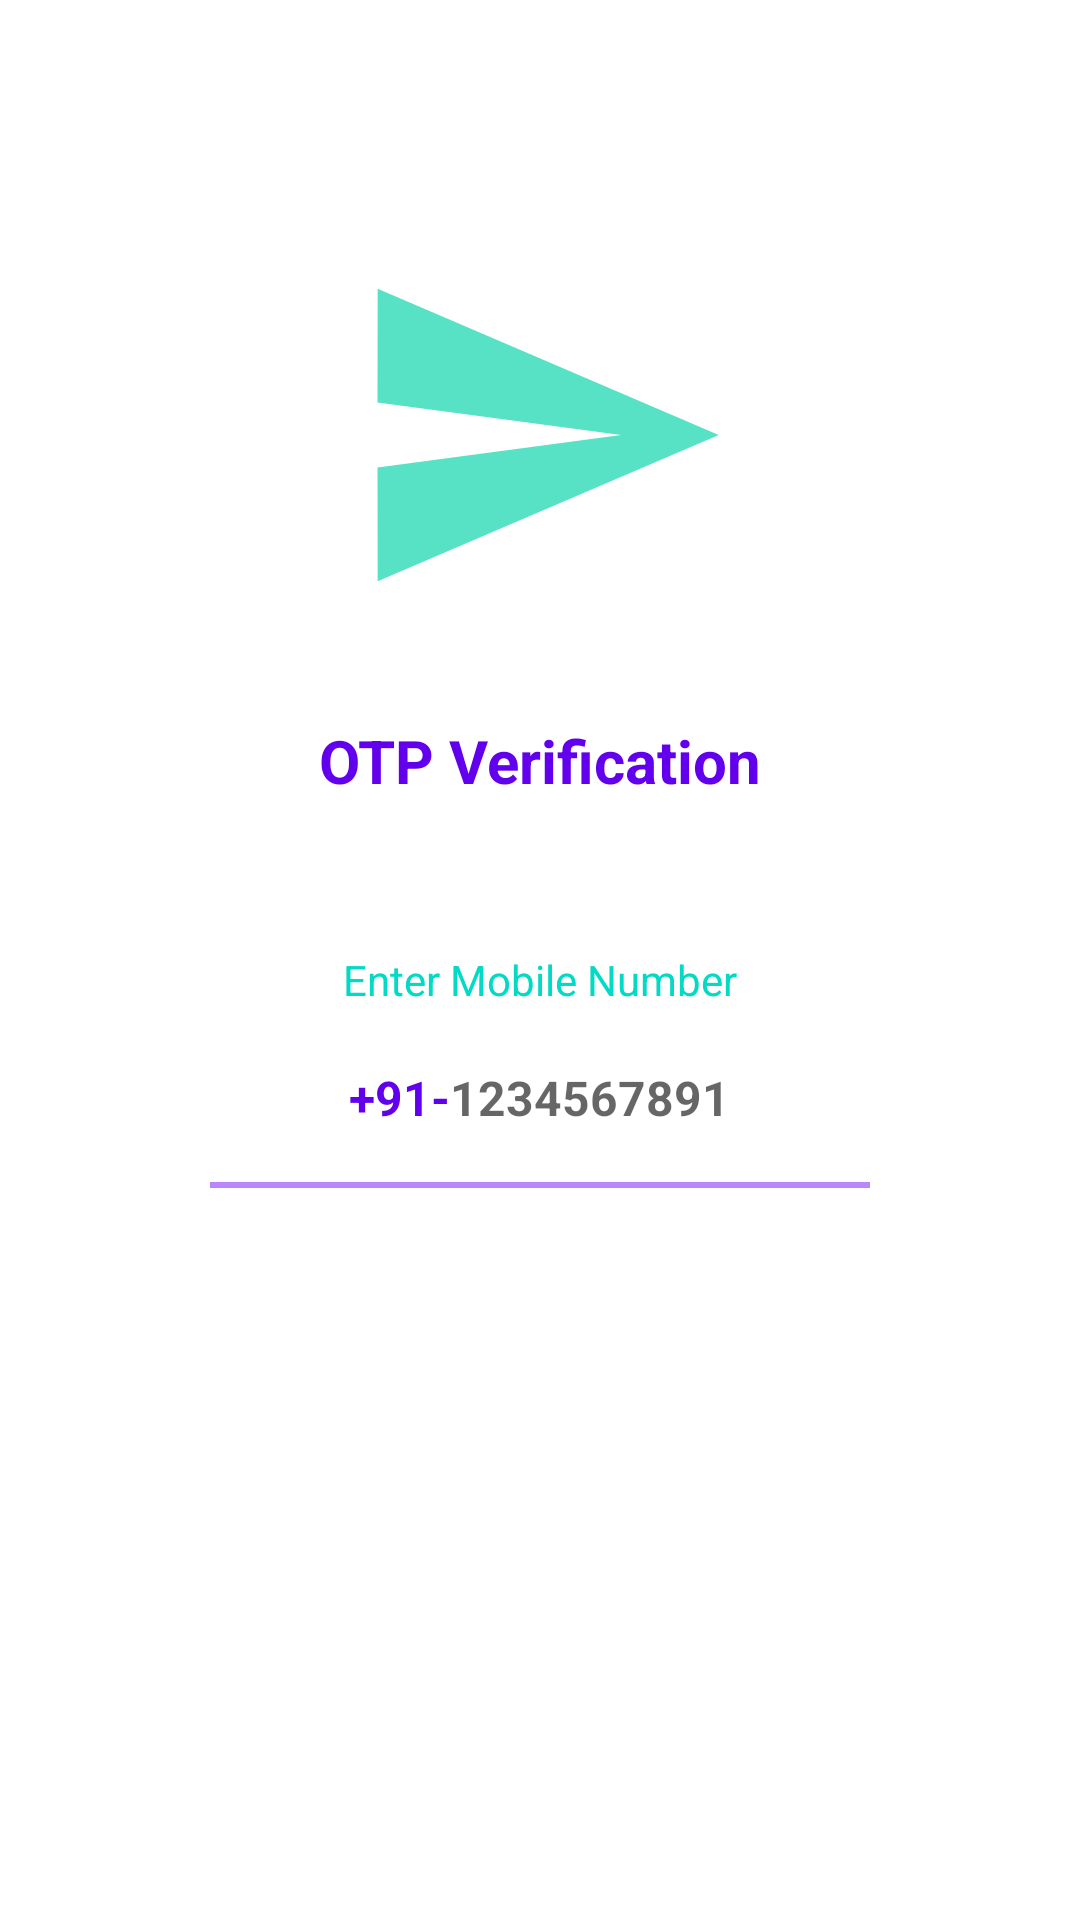

Locate icon controls on the screen. Image size 1080px×1920px, boxes as (x1, y1, x2, y2).
send: (377, 289, 718, 581)
